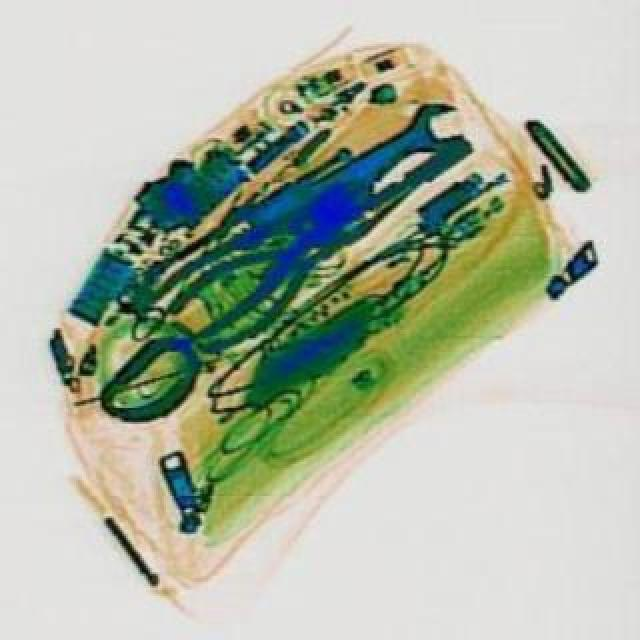scissors: (214, 98, 478, 266)
wrench: (164, 160, 448, 370), (164, 176, 404, 352)
